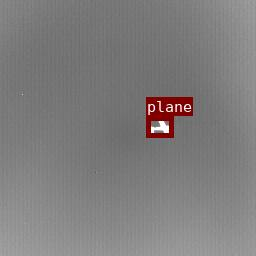plane: (146, 116, 173, 137)
